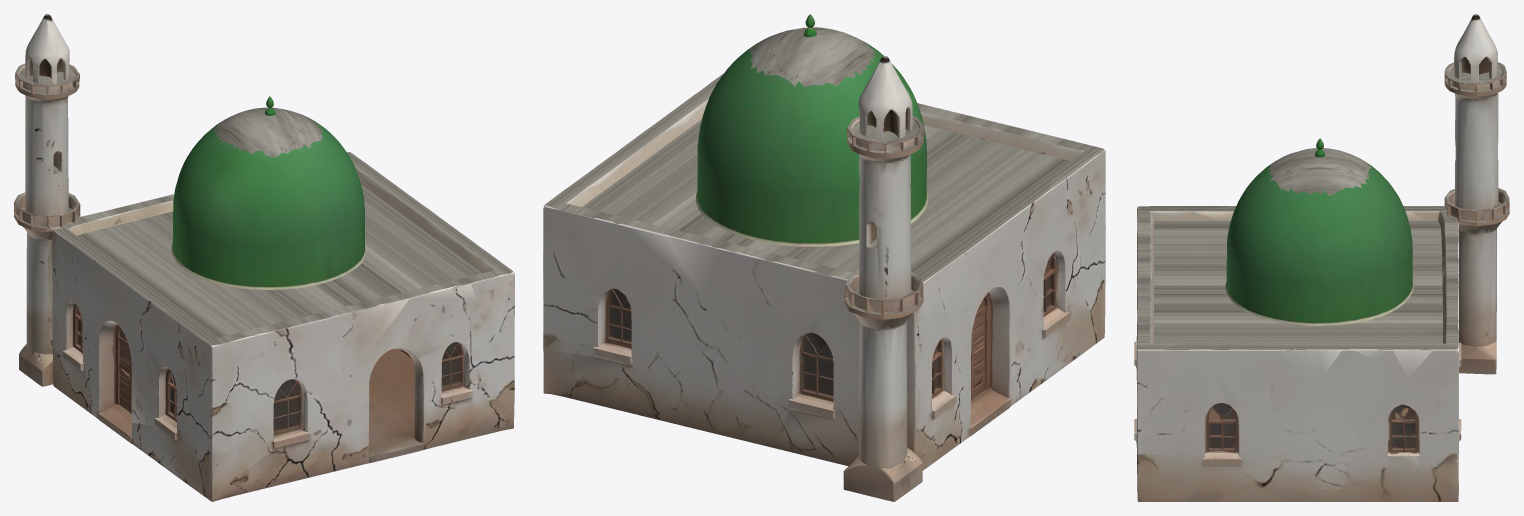
The model's file is mosque.glb.
3 views of the same model, side by side, from view 1: azimuth 30°, elevation 25°; view 2: azimuth 150°, elevation 25°; view 3: azimuth 270°, elevation 25° (orthographic). The views are drawn at different scales.
Parts seen in each view (by area): view 1: mosque; view 2: mosque; view 3: mosque.
Boxes of the visible parts, x1,y1,x2,y2 form: mosque: (14, 14, 514, 501); mosque: (543, 14, 1105, 501); mosque: (1134, 14, 1509, 501).
Size of the model in its own units: 13.59 by 14.34 by 14.
2 materials, 2 textured.
